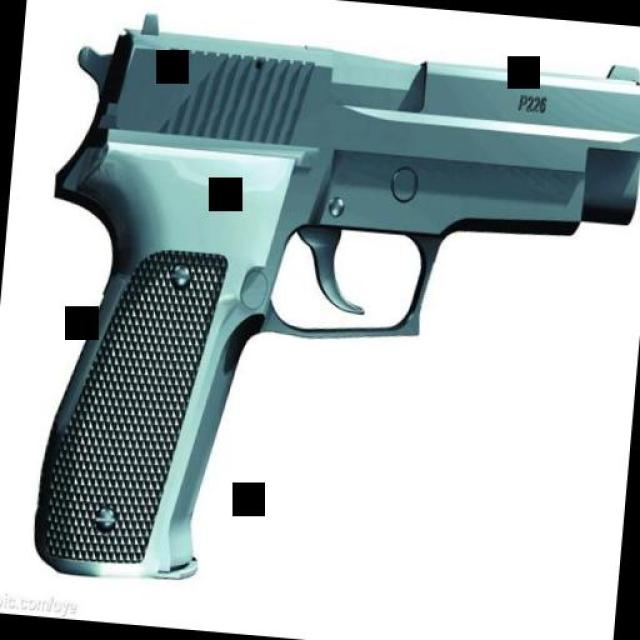gun: (6, 0, 640, 621)
